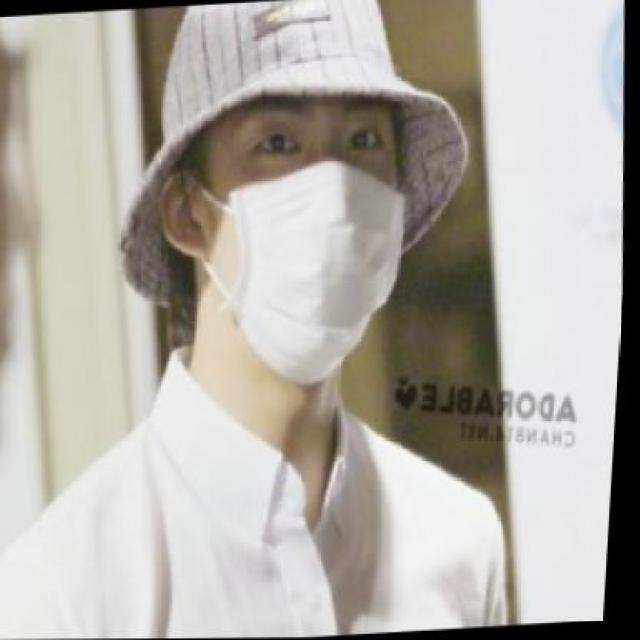hat: (121, 0, 471, 315)
